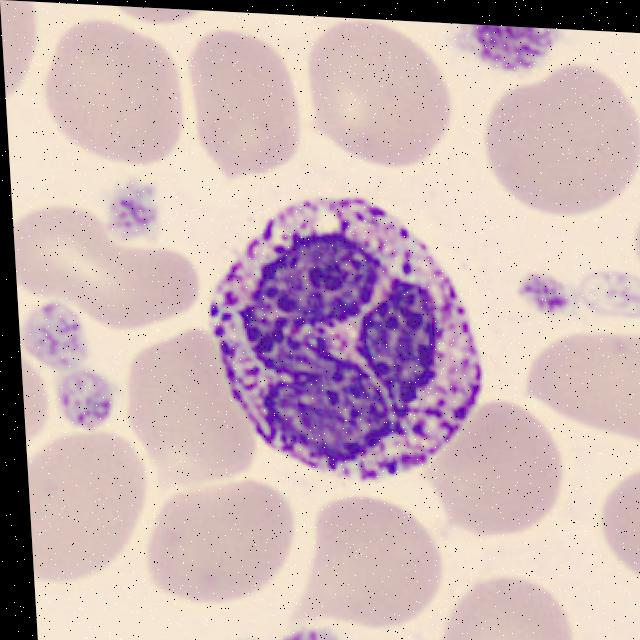basophil: (190, 197, 496, 493)
platelets: (454, 24, 561, 67), (100, 179, 165, 246), (27, 307, 92, 367), (57, 365, 116, 429), (574, 263, 640, 317), (524, 269, 579, 321), (221, 623, 376, 640)
rbc: (12, 191, 203, 344), (470, 58, 640, 212), (299, 17, 443, 166), (305, 493, 450, 634), (25, 419, 148, 583), (51, 23, 185, 162), (124, 331, 251, 476), (145, 486, 294, 607), (431, 403, 564, 530), (186, 33, 297, 179), (506, 333, 640, 449), (434, 573, 591, 640), (583, 455, 640, 586), (633, 595, 640, 640)
